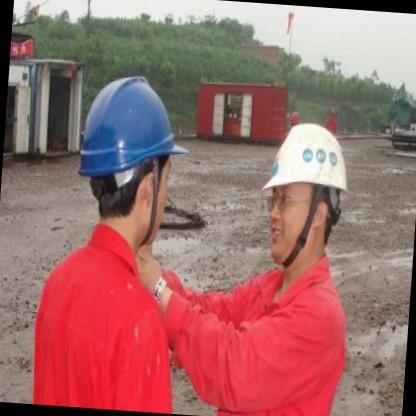helmet: (60, 54, 201, 251), (248, 102, 362, 274)
